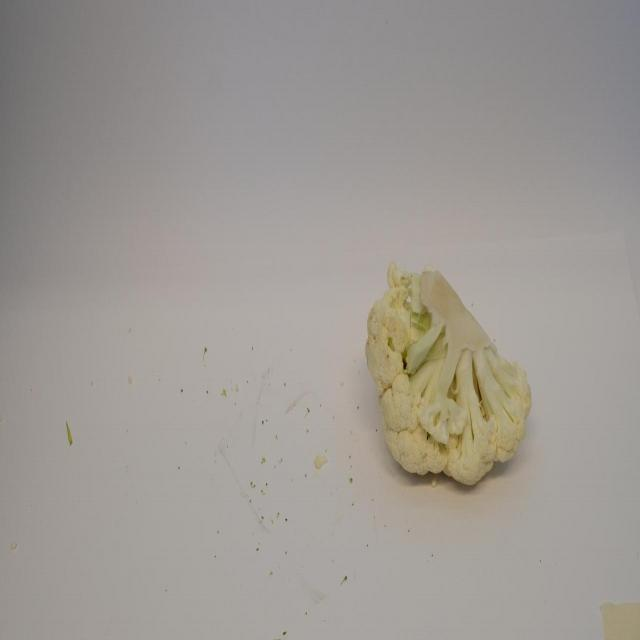cauliflower: (364, 260, 533, 490)
